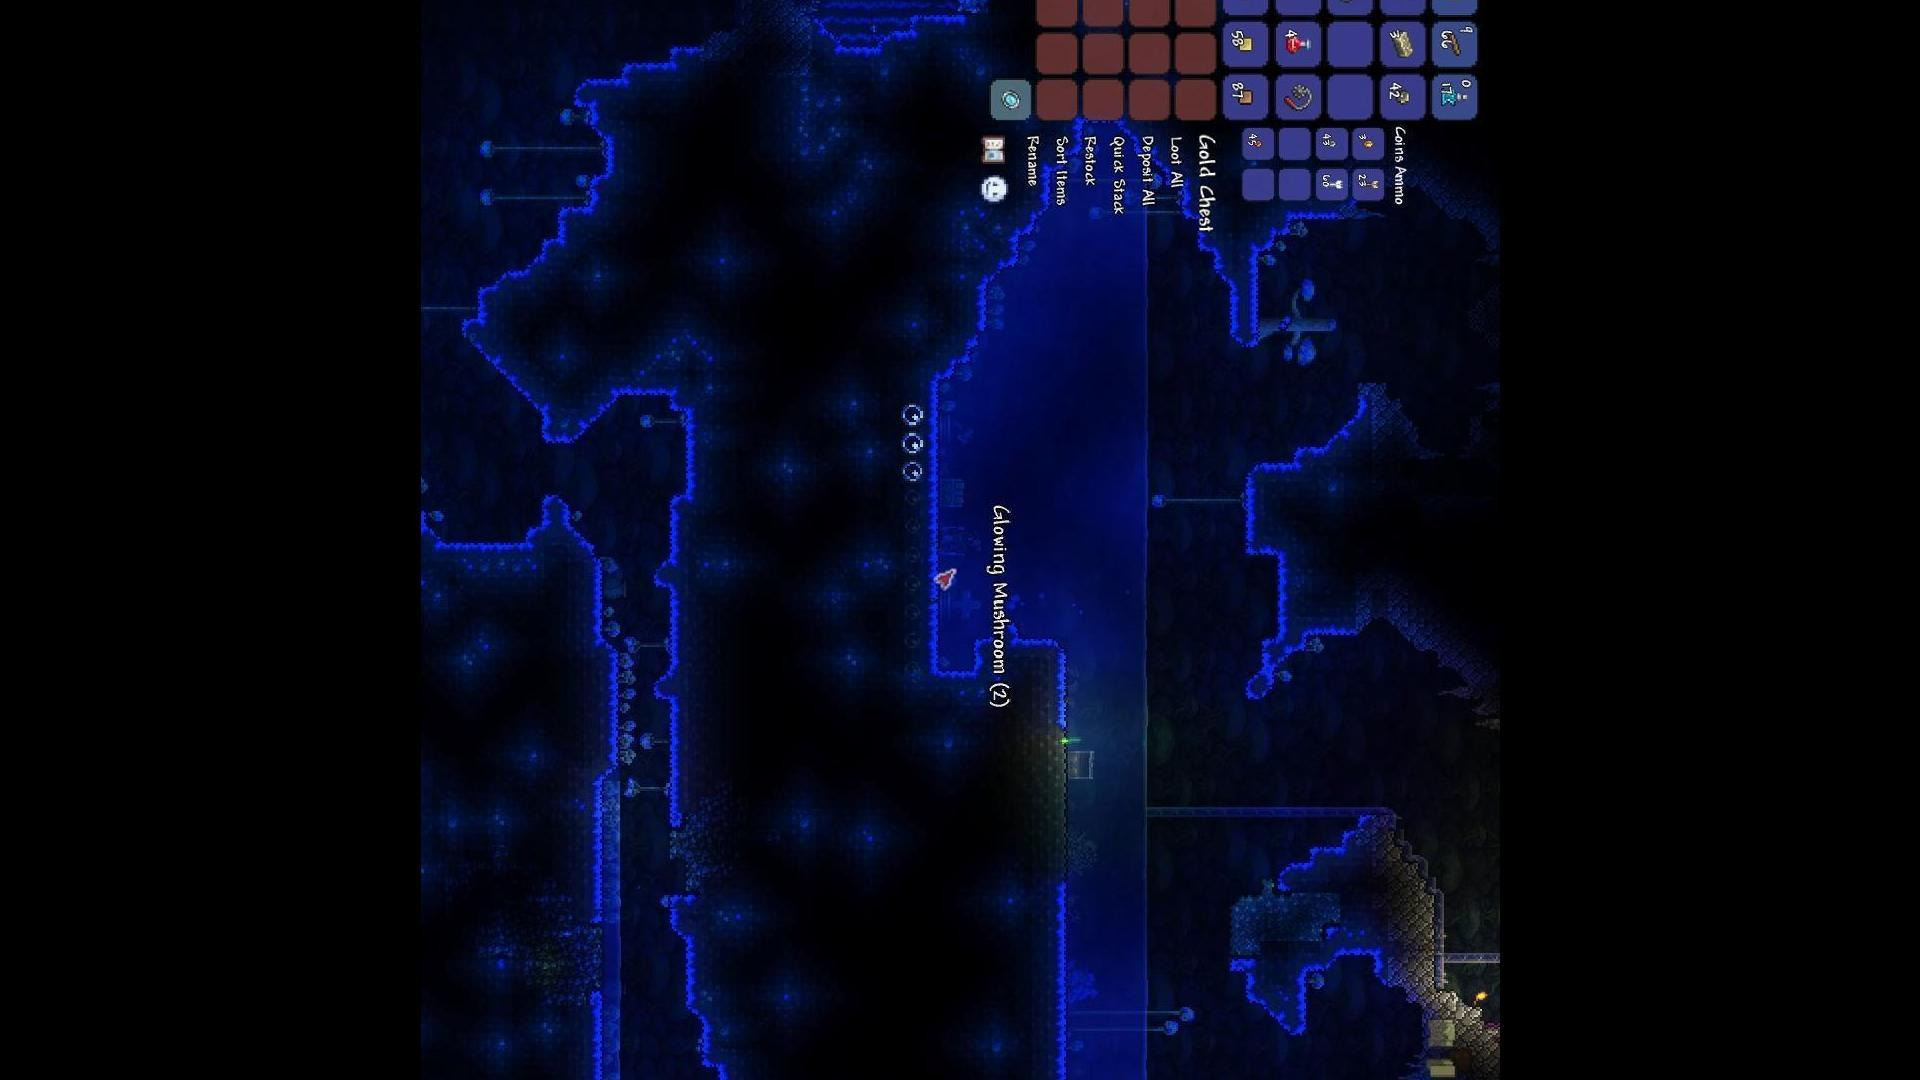arrow: (1358, 179, 1383, 190), (1320, 178, 1345, 189)
bar: (1390, 29, 1416, 59)
chest: (1058, 744, 1100, 782)
ore: (1393, 90, 1412, 105)
recallP: (1440, 84, 1465, 109)
